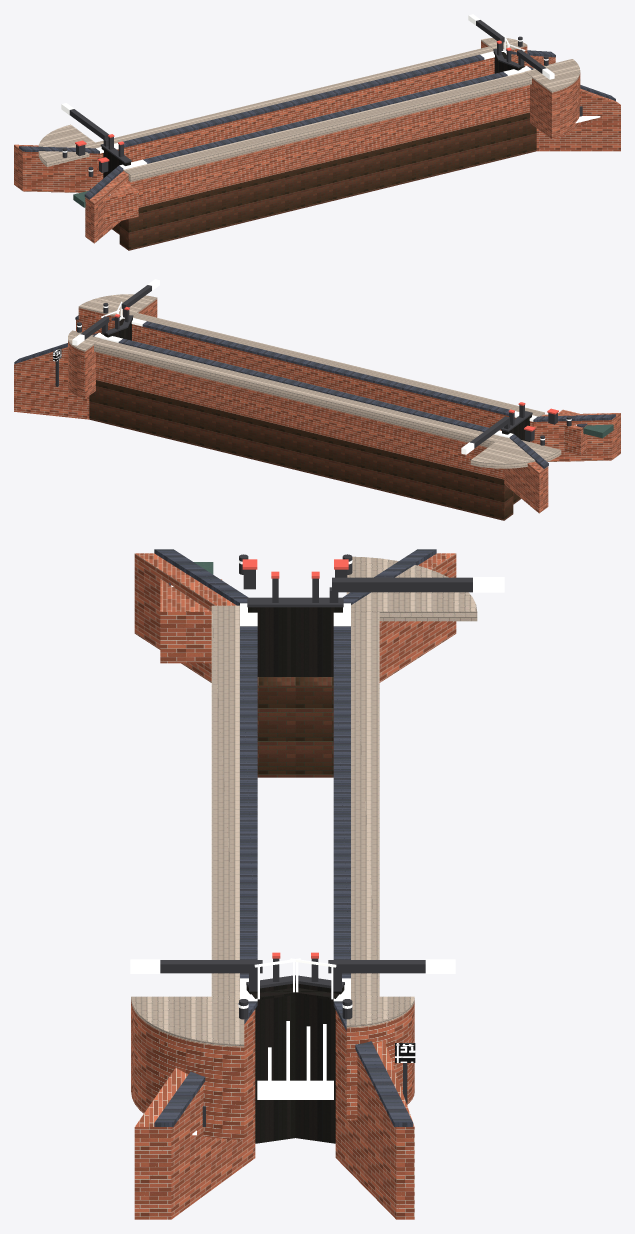
File: lock-31.glb
The picture shows the model from 3 angles, top to bottom: view 1: azimuth 30°, elevation 25°; view 2: azimuth 150°, elevation 25°; view 3: azimuth 270°, elevation 25°; orthographic projection. The views are drawn at different scales.
Visible parts, largest first — view 1: Chamber, ChamberWet, Edge, Coping.001, TopGateCap, Coping, TopGate; view 2: Chamber, ChamberWet, Edge, Coping.001, TopGateCap, Coping, TopGate; view 3: Chamber, Edge, Coping.001, TopGate, TopGateCap, ChamberWet, Coping, Leak.
Part boxes in pixels (left/top/right/bottom): Chamber: left=14, top=41, right=620, bottom=243; ChamberWet: left=112, top=112, right=536, bottom=250; Edge: left=38, top=38, right=580, bottom=181; Coping.001: left=19, top=50, right=615, bottom=199; TopGateCap: left=62, top=20, right=582, bottom=176; Coping: left=61, top=14, right=554, bottom=171; TopGate: left=101, top=51, right=524, bottom=178; Chamber: left=14, top=299, right=620, bottom=513; ChamberWet: left=89, top=380, right=521, bottom=520; Edge: left=68, top=294, right=561, bottom=468; Coping.001: left=14, top=315, right=615, bottom=468; TopGateCap: left=55, top=285, right=571, bottom=448; Coping: left=72, top=279, right=571, bottom=454; TopGate: left=101, top=318, right=531, bottom=441; Chamber: left=131, top=553, right=456, bottom=1219; Edge: left=131, top=556, right=477, bottom=1046; Coping.001: left=154, top=549, right=436, bottom=1126; TopGate: left=246, top=607, right=344, bottom=1143; TopGateCap: left=160, top=554, right=472, bottom=1126; ChamberWet: left=257, top=677, right=333, bottom=777; Coping: left=130, top=560, right=504, bottom=1008; Leak: left=171, top=585, right=333, bottom=1135.
Bounding box in the file's own units: 33.37 × 5.81 × 10.24.
11 materials, 8 textured.
